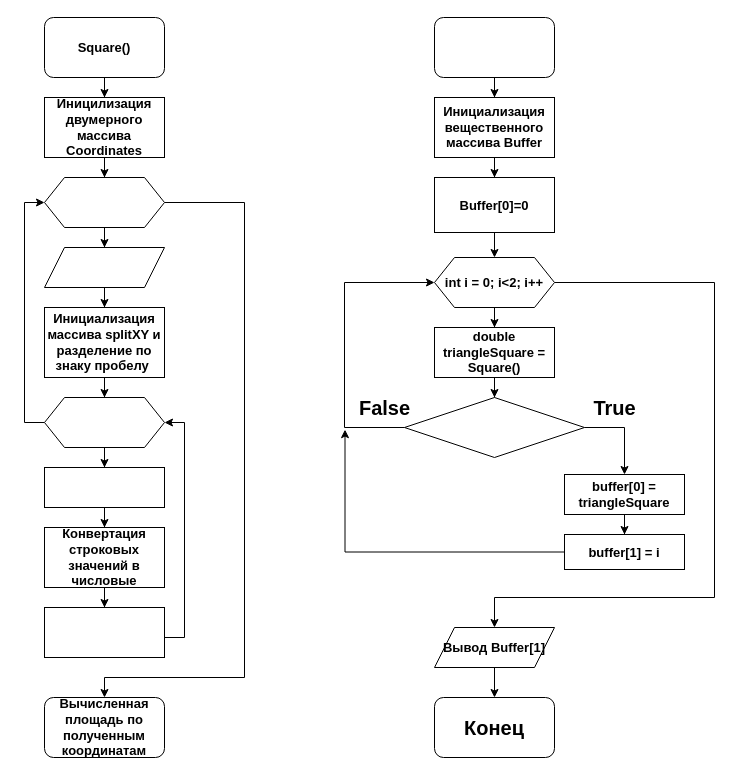
Some shapes in this 740 by 776 pixel diagram are drawn without their labels. The shapes that lost their labels are listed below. From the top down, each one's centre as x and y in pixels, then its label:
pixel 494 47: Начало
pixel 104 202: int i = 0; i<3; i++
pixel 104 267: Ввод string XY
pixel 104 422: int j = 0; j<2; j++
pixel 494 427: triangleSquare > buffer[0]
pixel 104 487: Int buffer
pixel 104 632: Запись в Coordinates[i,j]
